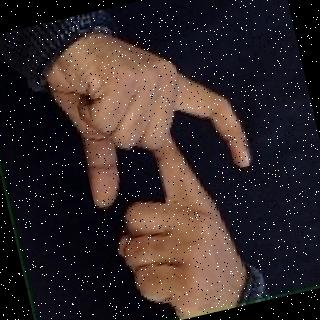E: (32, 9, 283, 320)
